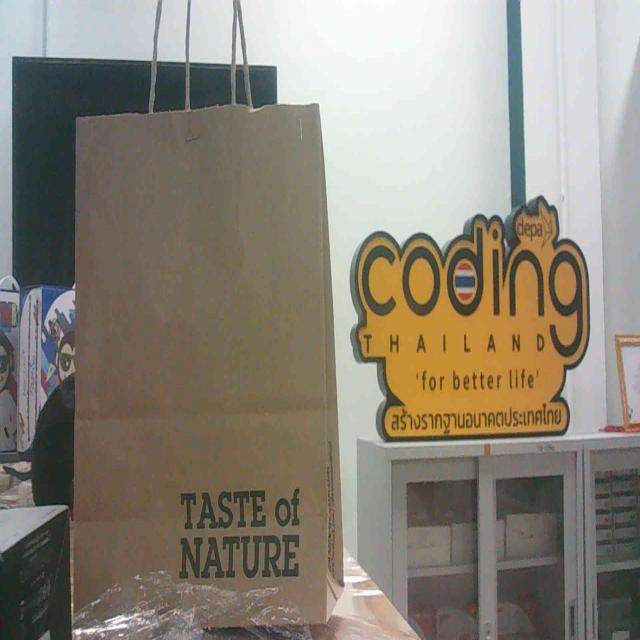bag: (49, 93, 362, 640)
